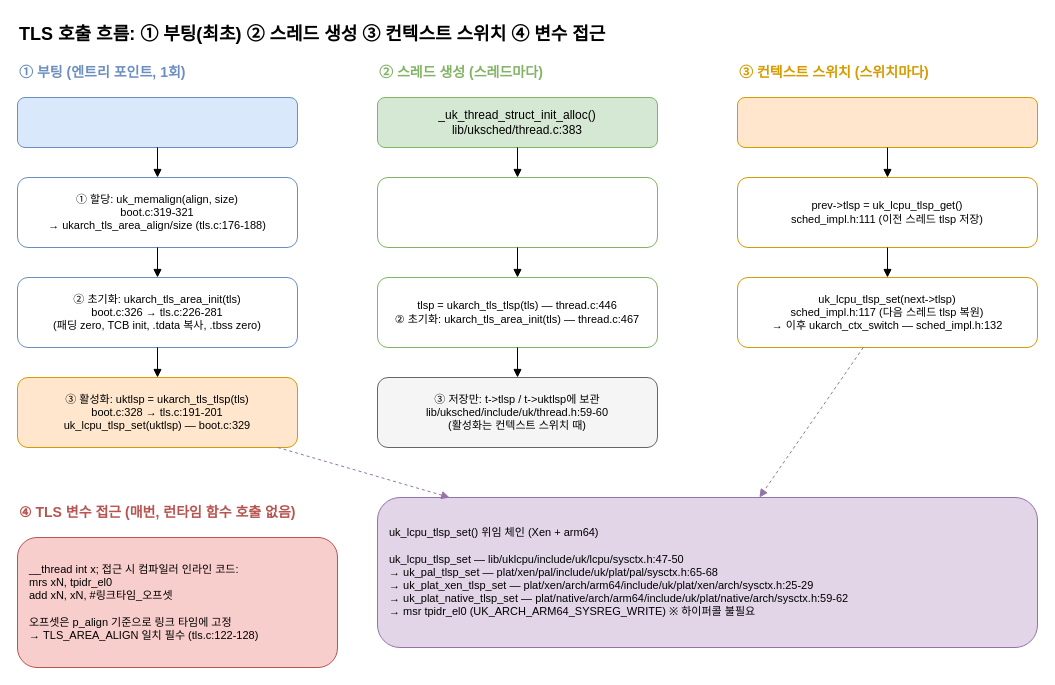
This 1055x685 diagram has some shape labels left out. Each missing label, with the centre of its shape:
"uk_boot_entry() lib/ukboot/boot.c:240" belongs at (x=157, y=122).
"uk_sched_thread_switch(next) lib/uksched/include/uk/sched_impl.h:100-133" belongs at (x=887, y=122).
"① 할당: uk_memalign(...) thread.c:421-425 (ectx 동반) / 438-439" belongs at (x=517, y=212).
